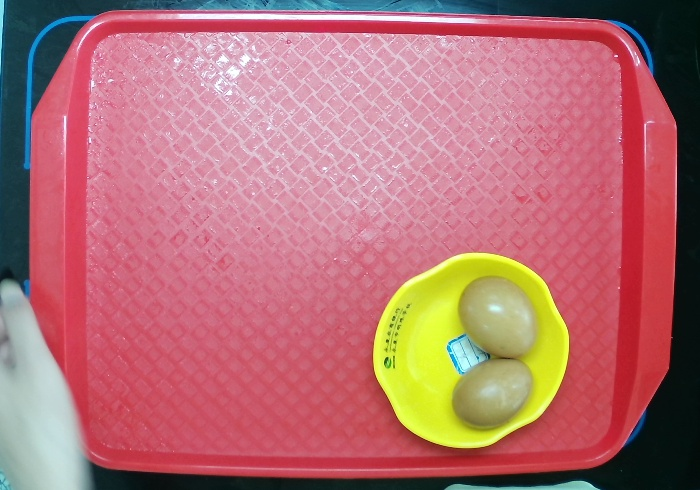YKMZ-Huang_Se_Ao_Bian_Wan: (371, 254, 570, 452)
